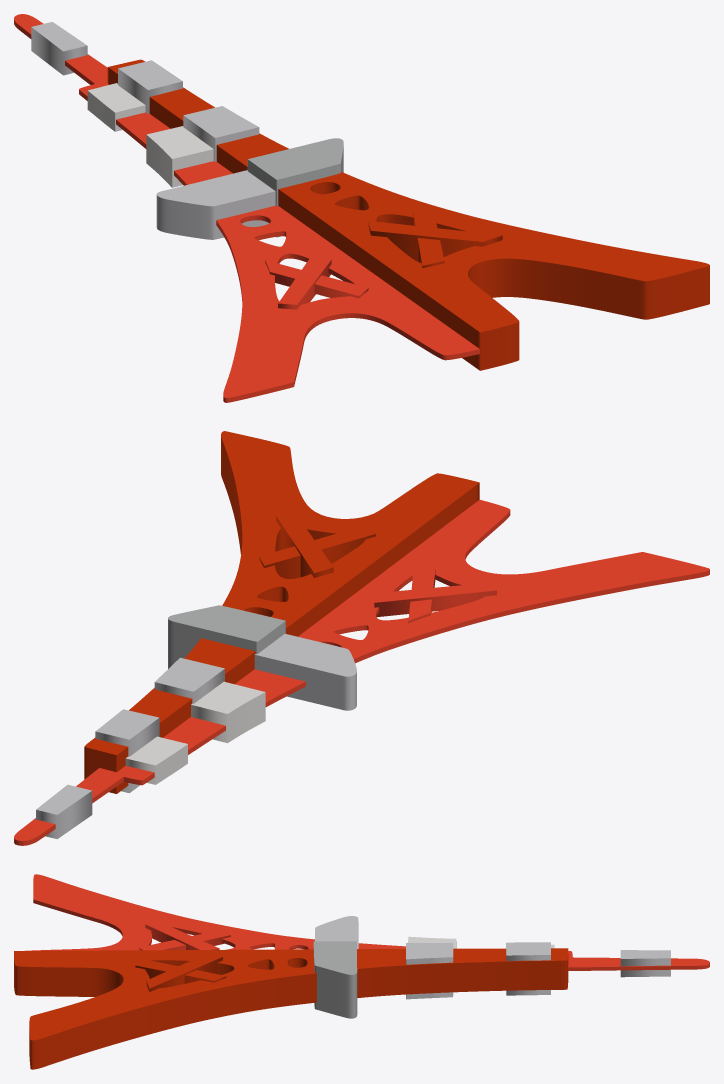
The model's file is emoji_u1f5fc.glb.
The picture shows the model from 3 angles, top to bottom: view 1: azimuth 30°, elevation 25°; view 2: azimuth 150°, elevation 25°; view 3: azimuth 270°, elevation 25°; orthographic projection. The views are drawn at different scales.
Parts seen in each view (by area): view 1: emoji_u1f5fc; view 2: emoji_u1f5fc; view 3: emoji_u1f5fc.
Boxes of the visible parts, left/top/right/bottom form: emoji_u1f5fc: left=14, top=14, right=709, bottom=402; emoji_u1f5fc: left=14, top=431, right=709, bottom=845; emoji_u1f5fc: left=14, top=874, right=709, bottom=1069.
Bounding box in the file's own units: 0.0211 × 0.0024 × 0.0346.
